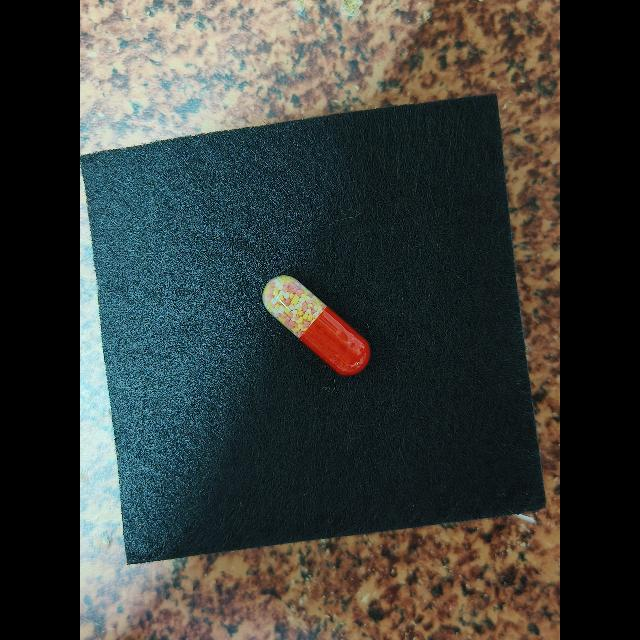Intact Capsule: (263, 275, 371, 376)
